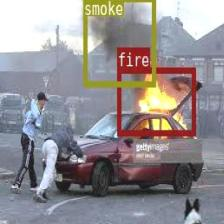fire: (116, 66, 196, 134)
smoke: (83, 0, 155, 86)
